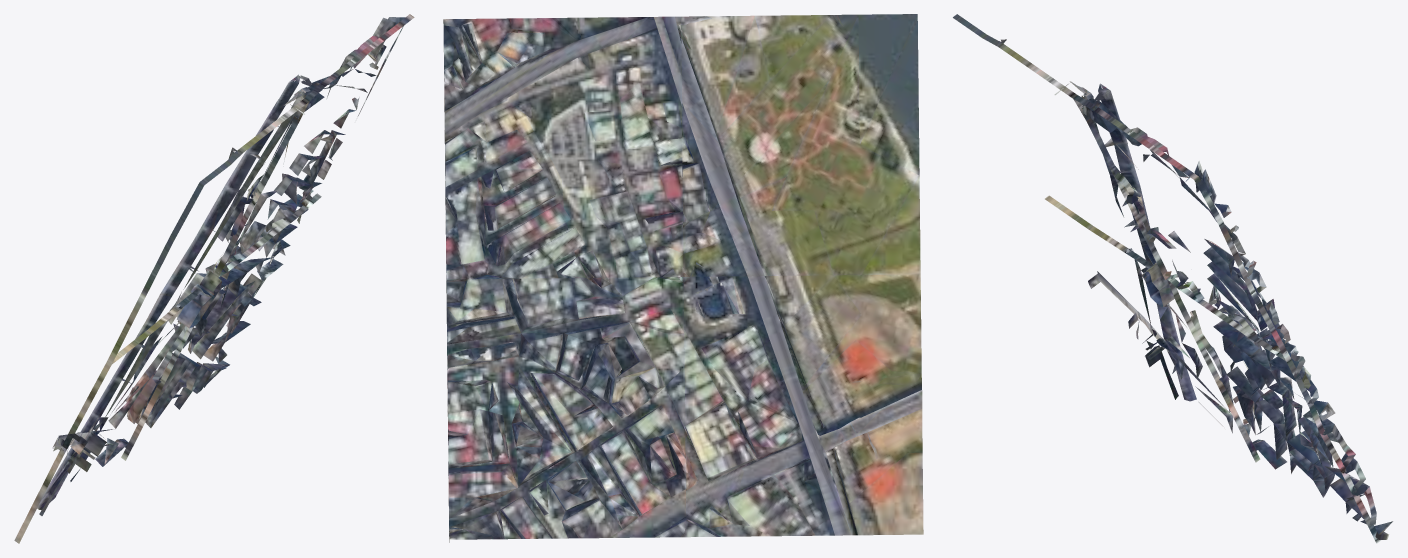
3 views of the same model, side by side, from view 1: azimuth 30°, elevation 25°; view 2: azimuth 150°, elevation 25°; view 3: azimuth 270°, elevation 25° (orthographic). The views are drawn at different scales.
Bounding box in the file's own units: 611 × 566 × 535.
2 materials, 2 textured.
